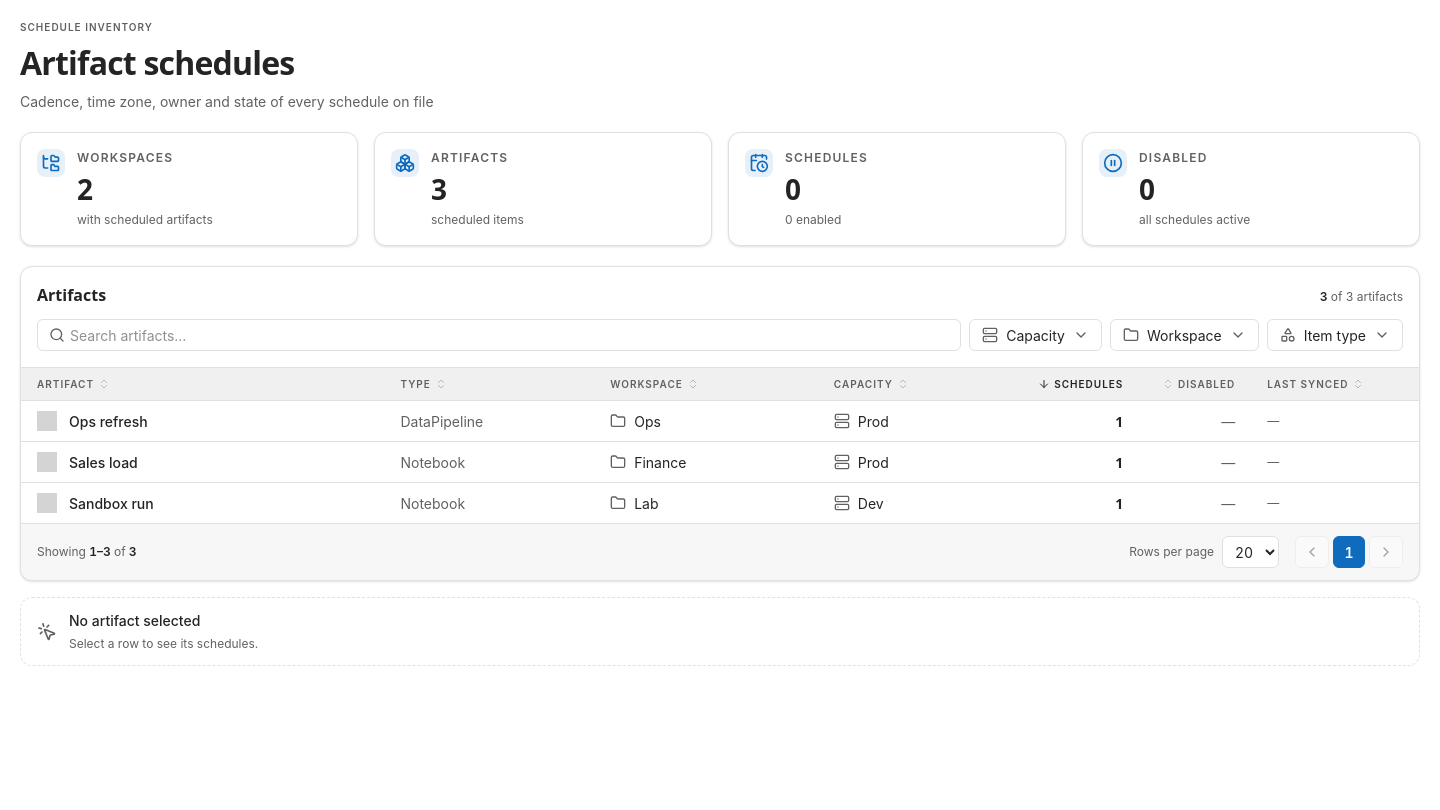
it: InventoryView filters › opens the schedule detail for the clicked row and closes it again
Click the button "Ops refresh".
click(108, 421)  # box [69,410,148,432]
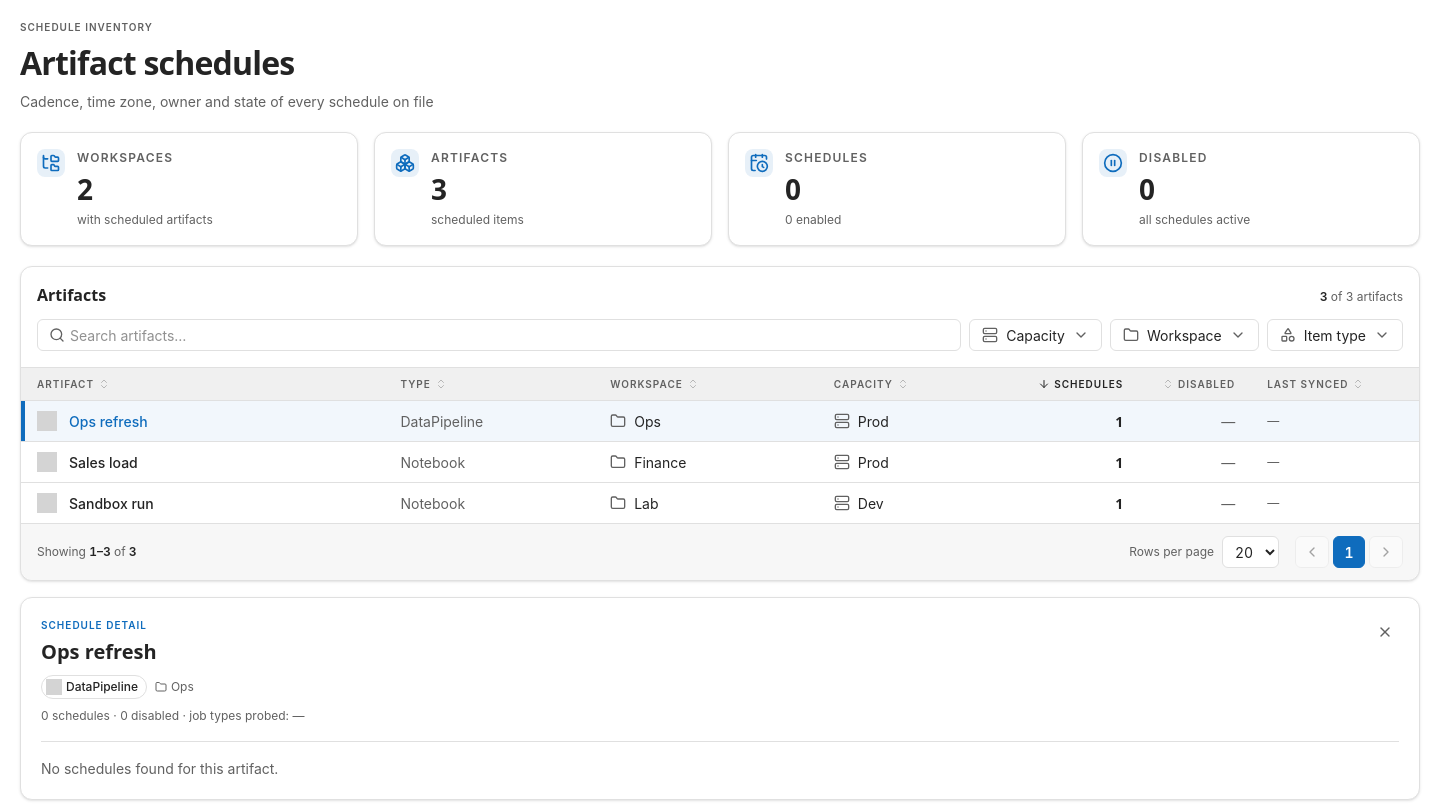
Expected: the element "Schedule detail" shows "Ops refresh", [41,638,156,665]
Click the button "Ops refresh".
click(108, 421)  # box [69,410,148,432]
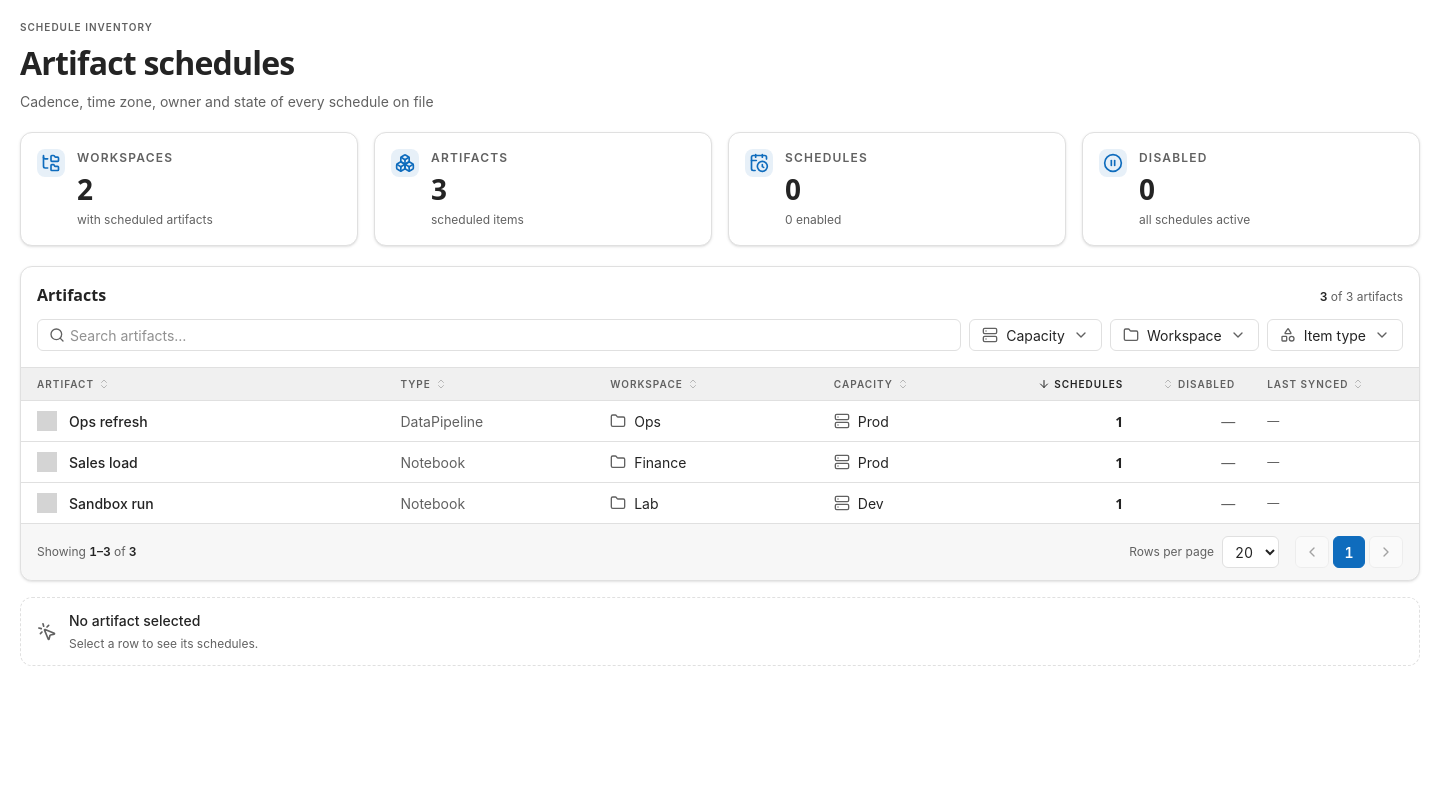
Expected: the text "Schedule detail" is gone
